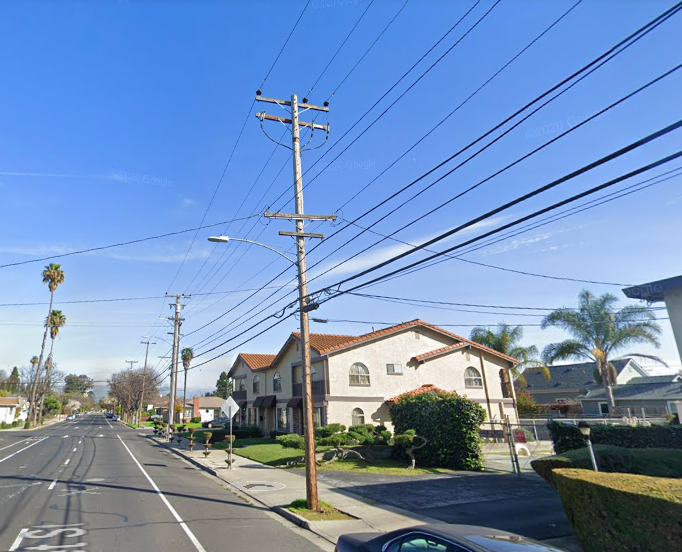utility_pole: (245, 83, 337, 150)
